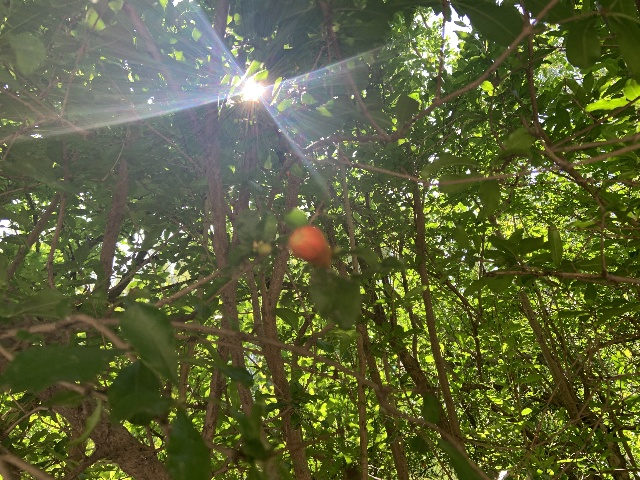bud: (288, 225, 332, 267)
